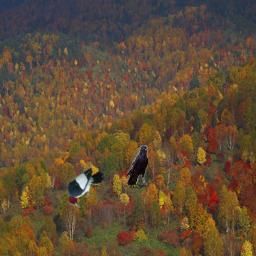Crow: (127, 145, 148, 185)
Woodpecker: (68, 168, 108, 208)
